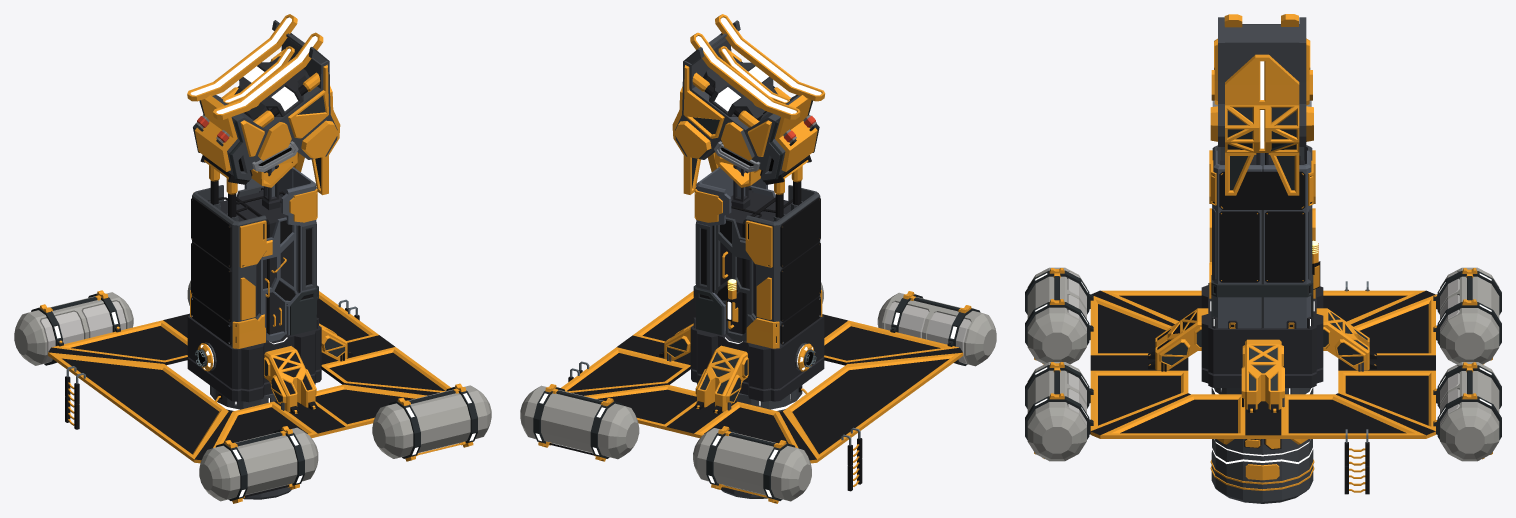
Rendered from SM_Platform_for_oil_rig_station.glb.
3 renders of one model, left to right at view 1: azimuth 30°, elevation 25°; view 2: azimuth 150°, elevation 25°; view 3: azimuth 270°, elevation 25°, orthographic. The views are drawn at different scales.
Parts seen in each view (by area): view 1: SM_Platform_for_oil_rig_station, SM_Oil_rig, SM_Oil_pump_construction; view 2: SM_Platform_for_oil_rig_station, SM_Oil_rig, SM_Oil_pump_construction; view 3: SM_Platform_for_oil_rig_station, SM_Oil_rig, SM_Oil_pump_construction.
Part boxes in pixels (x1=…): SM_Platform_for_oil_rig_station: x1=14, y1=280, x2=491, y2=503; SM_Oil_rig: x1=187, y1=165, x2=321, y2=499; SM_Oil_pump_construction: x1=187, y1=14, x2=340, y2=217; SM_Platform_for_oil_rig_station: x1=520, y1=282, x2=996, y2=503; SM_Oil_rig: x1=690, y1=165, x2=824, y2=498; SM_Oil_pump_construction: x1=672, y1=14, x2=825, y2=218; SM_Platform_for_oil_rig_station: x1=1025, y1=267, x2=1501, y2=494; SM_Oil_rig: x1=1201, y1=145, x2=1323, y2=503; SM_Oil_pump_construction: x1=1210, y1=14, x2=1313, y2=195.
Bounding box in the file's own units: 13.72 × 20.61 × 17.93.
3 materials, 1 textured.
